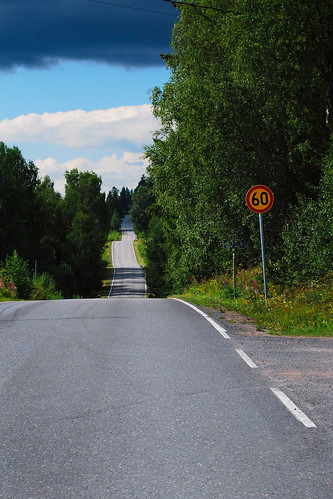road: (1, 302, 324, 499), (109, 210, 153, 301)
sign: (242, 179, 274, 216)
sky: (1, 1, 168, 163)
vegetation: (159, 1, 333, 290)
